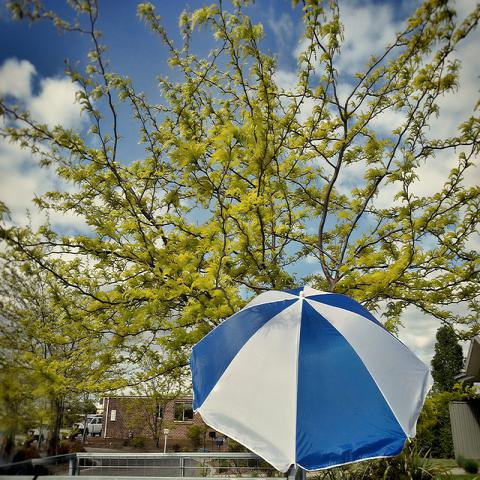car: (27, 422, 50, 446), (87, 417, 103, 437), (73, 423, 84, 437)
